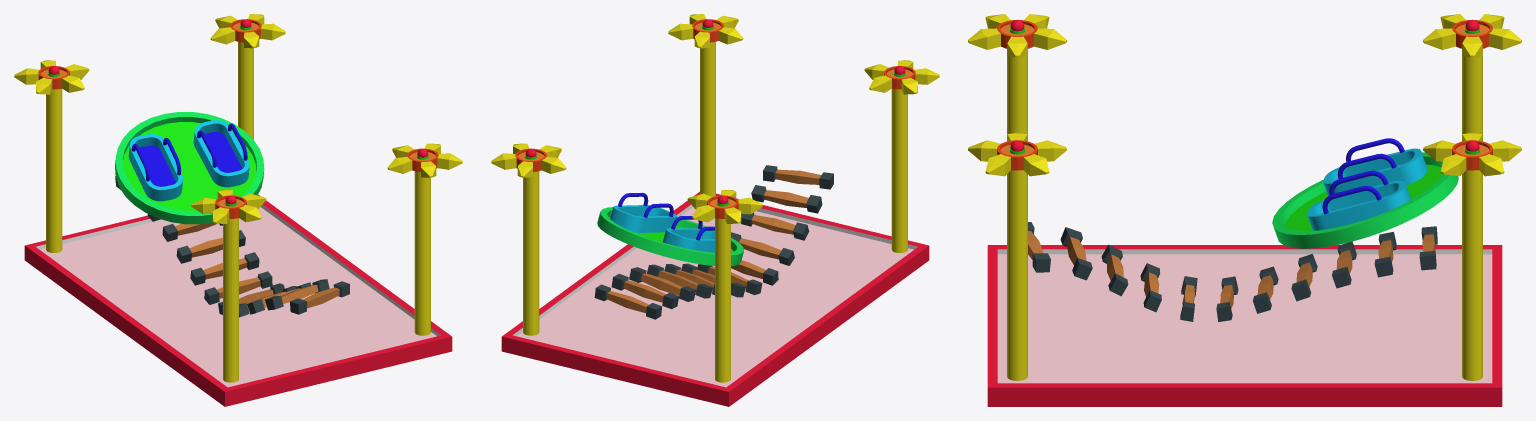
The model's file is RotatFun2 (1).fbx.
The picture shows the model from 3 angles, left to right: view 1: azimuth 30°, elevation 25°; view 2: azimuth 150°, elevation 25°; view 3: azimuth 270°, elevation 25°; orthographic projection. The views are drawn at different scales.
Visible parts, largest first — view 1: Plane, Circle, Circle.003, Cube; view 2: Plane, Circle, Cube, Circle.003; view 3: Plane, Circle, Circle.003, Cube.
Boxes of the visible parts, left/top/right/bottom form: Plane: left=24, top=194, right=452, bottom=406; Circle: left=14, top=14, right=462, bottom=382; Circle.003: left=115, top=112, right=264, bottom=224; Cube: left=115, top=176, right=349, bottom=317; Plane: left=501, top=191, right=929, bottom=406; Circle: left=491, top=14, right=939, bottom=382; Cube: left=594, top=165, right=833, bottom=319; Circle.003: left=597, top=192, right=743, bottom=266; Plane: left=987, top=245, right=1502, bottom=406; Circle: left=968, top=14, right=1521, bottom=380; Circle.003: left=1272, top=138, right=1458, bottom=248; Cube: left=1028, top=222, right=1437, bottom=321.
Size of the model in its own units: 722 by 548 by 1080.
Materials: 1 (1 with a texture image).
